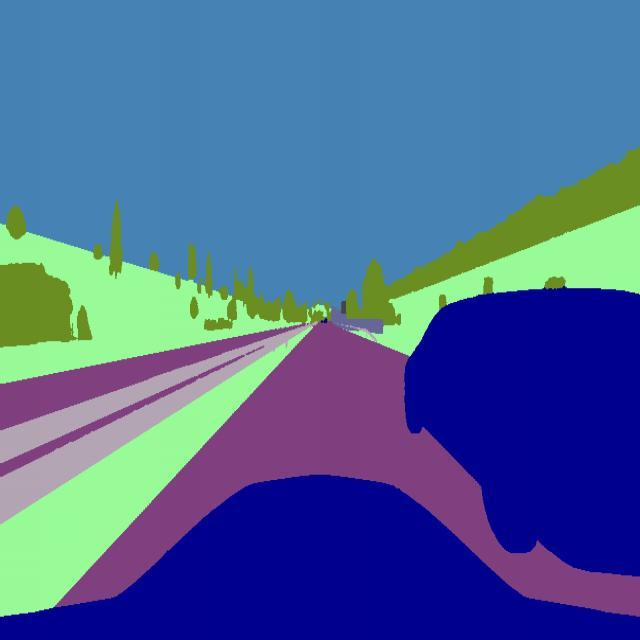unsafe: (401, 285, 640, 593)
